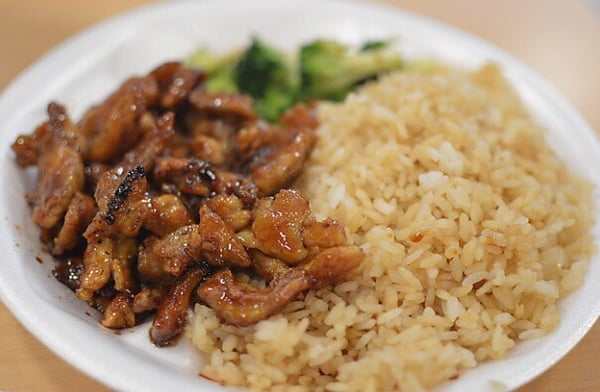curry: (201, 36, 411, 123)
sushi: (3, 16, 599, 389)
